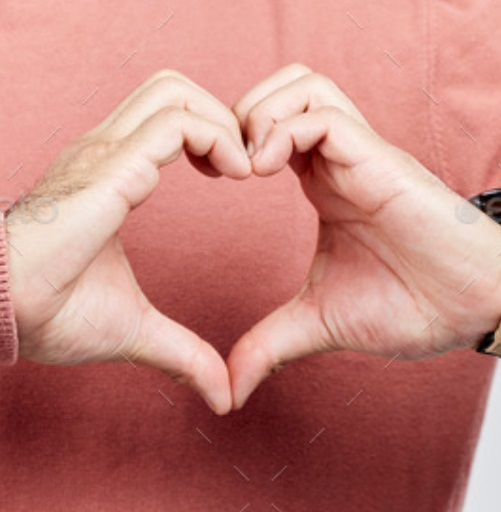heart: (9, 63, 470, 417)
